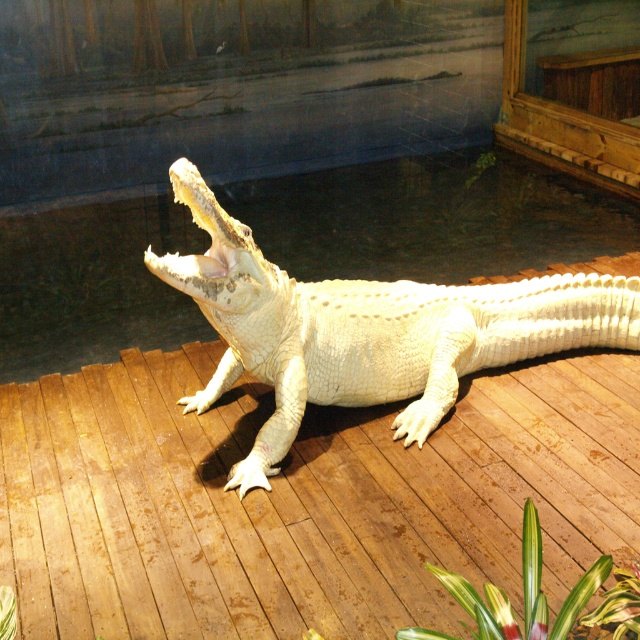Crocodile: (146, 156, 640, 502)
